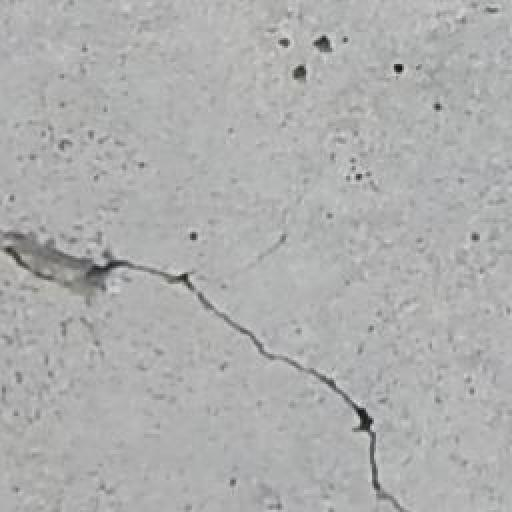spalling: (3, 215, 418, 501)
